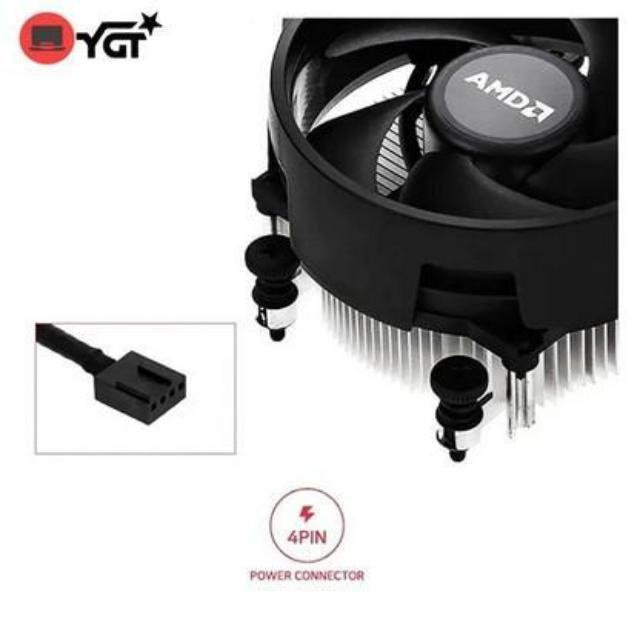CPU_Fan: (237, 15, 640, 467)
